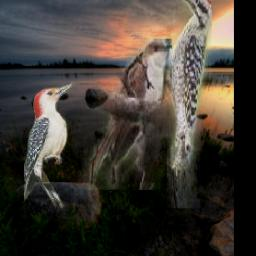Cuckoo: (76, 40, 172, 191)
Woodpecker: (168, 0, 213, 208), (25, 83, 76, 209)
